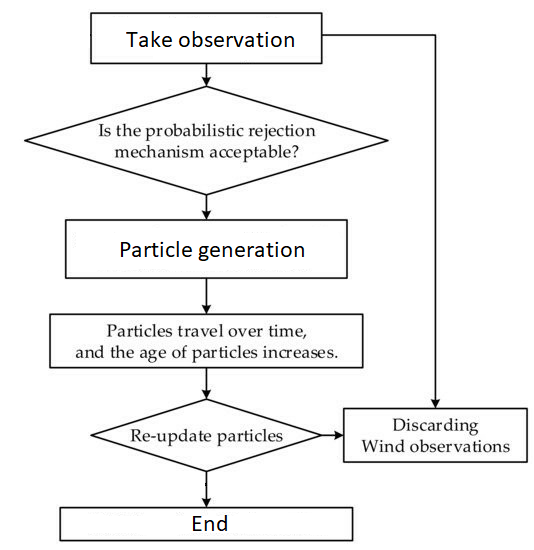arrow: (324, 31, 440, 409), (199, 471, 213, 507), (200, 280, 213, 316), (319, 428, 344, 442), (201, 370, 212, 399), (199, 196, 213, 218), (201, 62, 211, 86)
decision: (24, 86, 390, 195), (90, 399, 320, 472)
process: (63, 216, 352, 281), (48, 311, 365, 370), (87, 10, 325, 66), (57, 504, 356, 543), (341, 405, 530, 466)
text: (75, 321, 342, 361), (97, 123, 318, 161), (359, 416, 512, 456), (119, 240, 306, 264), (127, 29, 296, 53), (130, 423, 285, 445), (187, 513, 229, 533)
